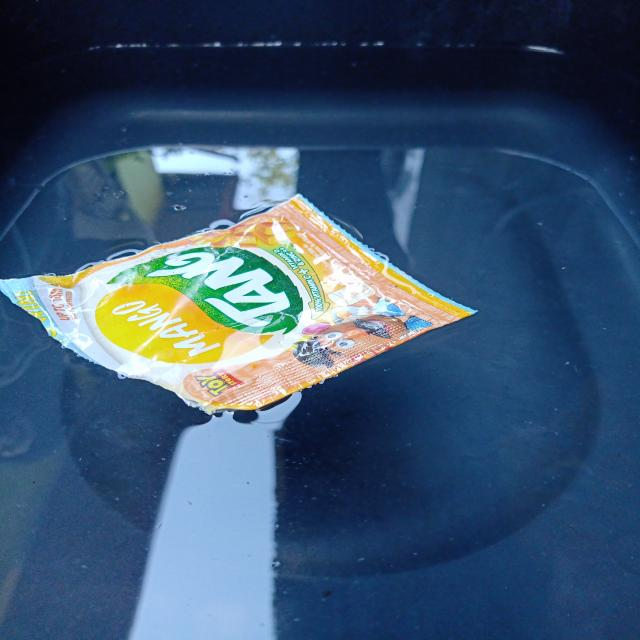Plastic Wrapper: (0, 184, 496, 424)
